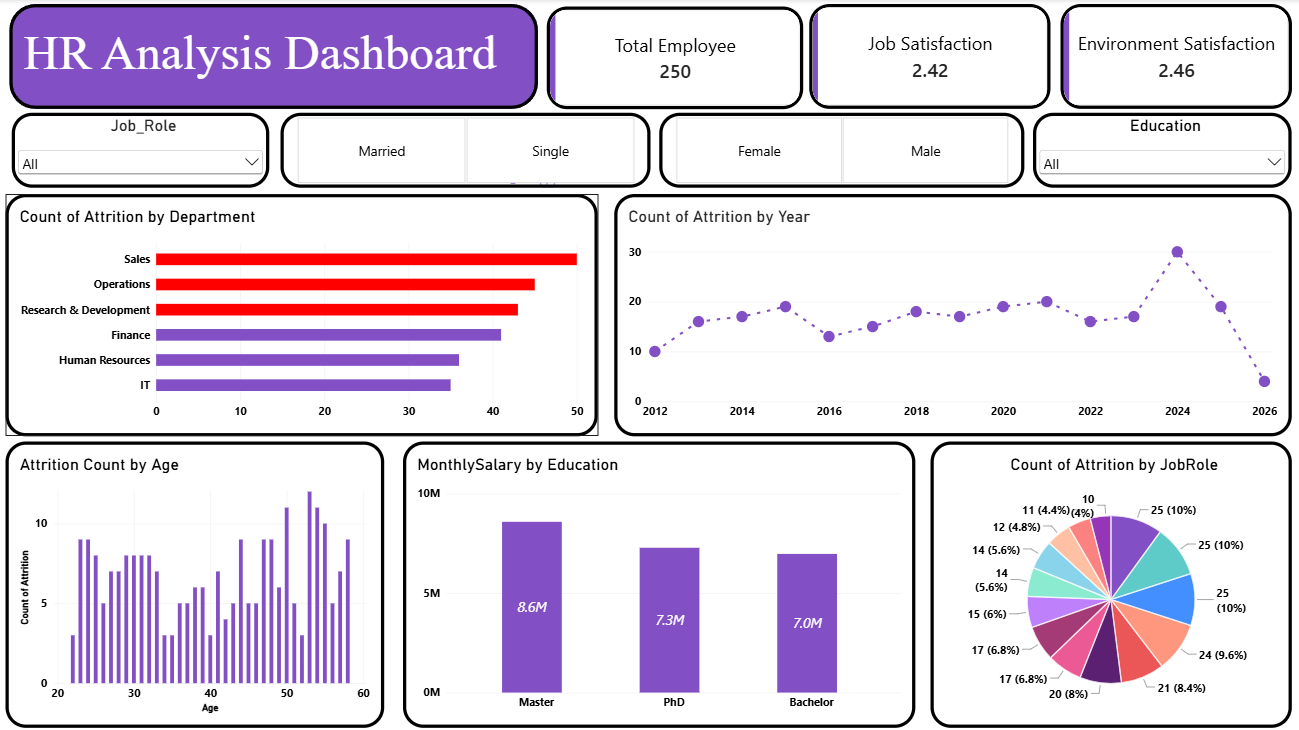

The dashboard page shown, as its layout file describes it:
{"tool":"powerbi","page":{"name":"Page 1","canvas":[1920,1080],"ordinal":0},"visuals":[{"type":"shape","box":[16.6,7.4,778.5,154.6],"z":0},{"type":"textbox","box":[11,36.8,749.1,101.2],"z":1000},{"type":"clusteredColumnChart","title":"Attrition Count by Age","fields":{"Category":["Sheet1.Age"],"Y":["CountNonNull(Sheet1.Attrition)"]},"box":[11,651.5,557.7,421.5],"z":2000},{"type":"lineChart","fields":{"Category":["Sheet1.HireDate.Variation.Date Hierarchy.Year","Sheet1.HireDate.Variation.Date Hierarchy.Quarter","Sheet1.HireDate.Variation.Date Hierarchy.Month","Sheet1.HireDate.Variation.Date Hierarchy.Day"],"Y":["CountNonNull(Sheet1.Attrition)"]},"box":[907.4,287.1,997.6,357.1],"z":2001},{"type":"clusteredBarChart","fields":{"Category":["Sheet1.Department"],"Y":["CountNonNull(Sheet1.Attrition)"]},"box":[11,287.1,872.4,357.1],"z":2002},{"type":"pieChart","fields":{"Category":["Sheet1.JobRole"],"Y":["CountNonNull(Sheet1.Attrition)"]},"box":[1373,651.5,531.9,421.5],"z":2003},{"type":"clusteredColumnChart","title":"MonthlySalary by Education","fields":{"Category":["Sheet1.Education"],"Y":["Sum(Sheet1.MonthlySalary)"]},"box":[596.3,651.5,754.6,421.5],"z":2004},{"type":"slicer","title":"Job_Role","fields":{"Values":["Sheet1.JobRole"]},"box":[20.2,167.5,379.1,110.4],"z":2005},{"type":"slicer","fields":{"Values":["Sheet1.MaritalStatus"]},"box":[416,167.5,544.8,110.4],"z":2006},{"type":"slicer","fields":{"Values":["Sheet1.Gender"]},"box":[973.6,167.5,537.4,110.4],"z":2007},{"type":"slicer","title":"Education","fields":{"Values":["Sheet1.Education"]},"box":[1523.9,167.5,381,110.4],"z":2008},{"type":"cardVisual","fields":{"Data":["Sheet1.Employee"]},"box":[808,11,377.3,150.9],"z":2009},{"type":"cardVisual","fields":{"Data":["Sheet1.Job Satisfaction"]},"box":[1194.5,7.4,355.2,154.6],"z":2010},{"type":"cardVisual","fields":{"Data":["Sheet1.Environment Satisfaction"]},"box":[1564.4,7.4,340.5,154.6],"z":2011}]}

Visuals, with their boxes in screenshot pixels (x1, y1, x2, y2), scaled from the page's 1920x1080 canvas onto the 1299x730 screenshot:
shape: [11,5,538,110]
textbox: [7,25,514,93]
"Attrition Count by Age" clusteredColumnChart: [7,440,385,725]
lineChart - Sheet1.HireDate.Variation.Date Hierarchy.Year x Sheet1.HireDate.Variation.Date Hierarchy.Quarter: [614,194,1289,435]
clusteredBarChart - Sheet1.Department x CountNonNull(Sheet1.Attrition): [7,194,598,435]
pieChart - Sheet1.JobRole x CountNonNull(Sheet1.Attrition): [929,440,1289,725]
"MonthlySalary by Education" clusteredColumnChart: [403,440,914,725]
"Job_Role" slicer: [14,113,270,188]
slicer - Sheet1.MaritalStatus: [281,113,650,188]
slicer - Sheet1.Gender: [659,113,1022,188]
"Education" slicer: [1031,113,1289,188]
cardVisual - Sheet1.Employee: [547,7,802,109]
cardVisual - Sheet1.Job Satisfaction: [808,5,1048,110]
cardVisual - Sheet1.Environment Satisfaction: [1058,5,1289,110]
